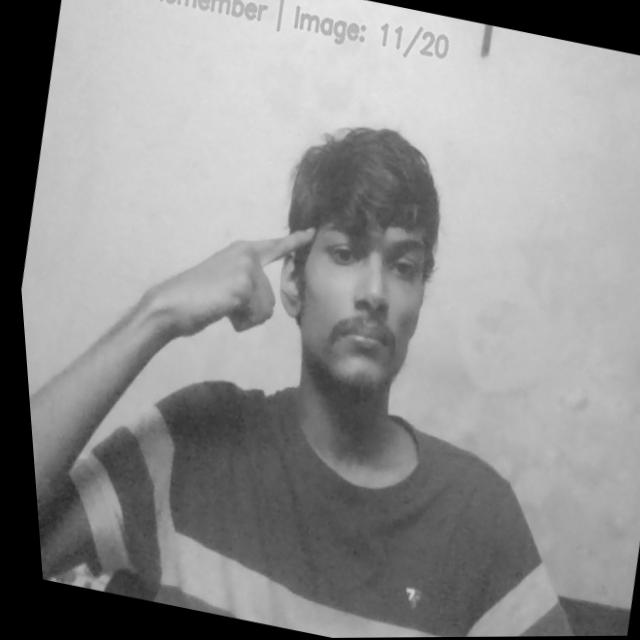Remember: (142, 191, 328, 364)
